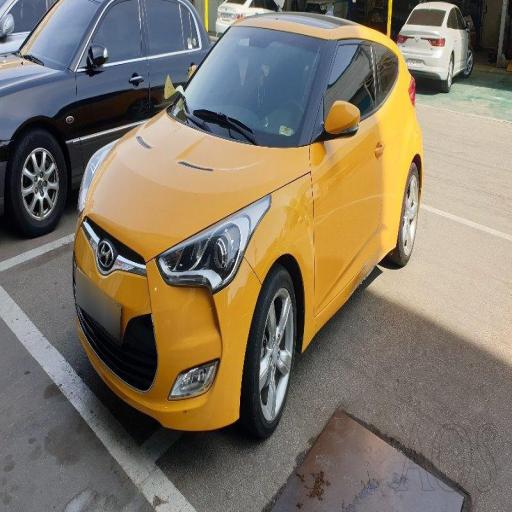broken: (136, 170, 286, 429)
